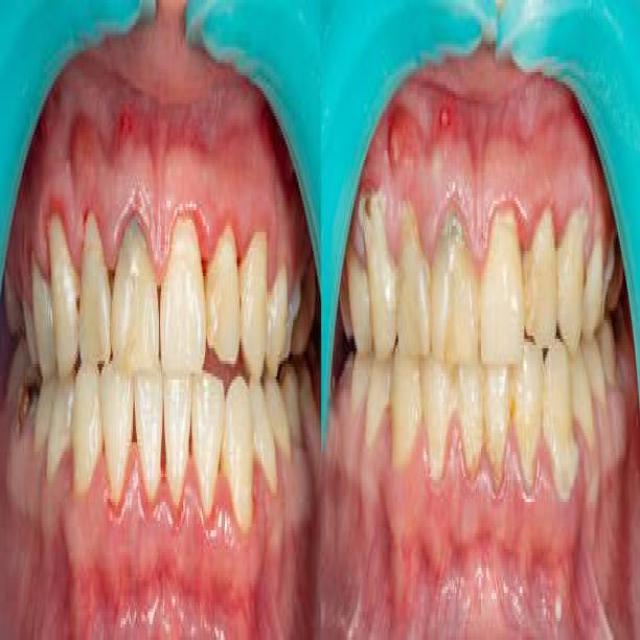caries: (10, 354, 46, 451), (333, 325, 359, 416)
